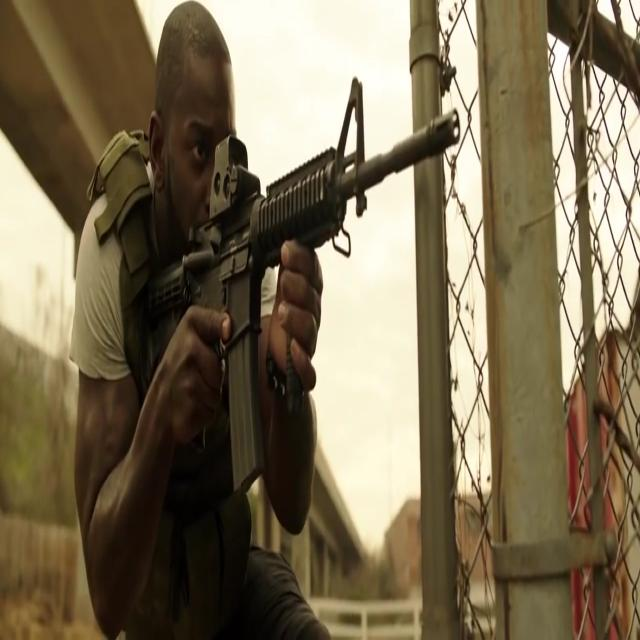Weapon: (117, 158, 436, 496)
